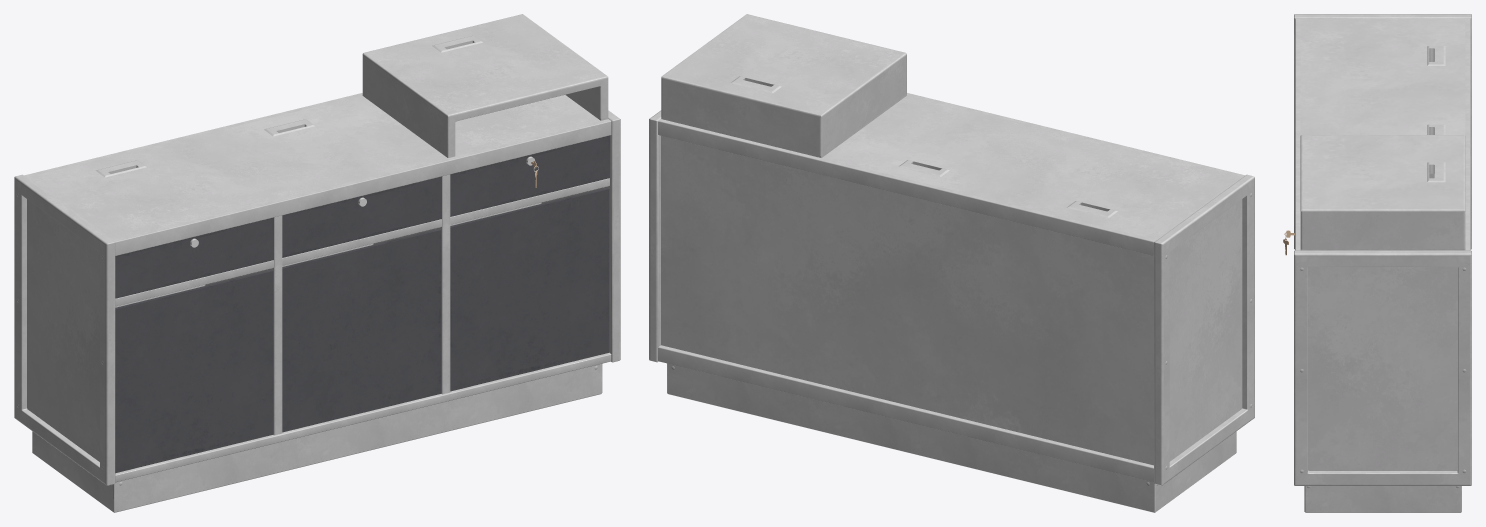
Rendered from SM_Counter_01b.glb.
3 views of the same model, side by side, from view 1: azimuth 30°, elevation 25°; view 2: azimuth 150°, elevation 25°; view 3: azimuth 270°, elevation 25° (orthographic). The views are drawn at different scales.
Visible parts, largest first — view 1: SM_Counter_01b; view 2: SM_Counter_01b; view 3: SM_Counter_01b.
Boxes of the visible parts, box(x1,y1,x2,y2) form: SM_Counter_01b: box(14, 14, 620, 512); SM_Counter_01b: box(649, 14, 1254, 512); SM_Counter_01b: box(1283, 14, 1471, 512).
Size of the model in its own units: 1.96 by 1.16 by 0.6467.
1 material, 1 textured.
